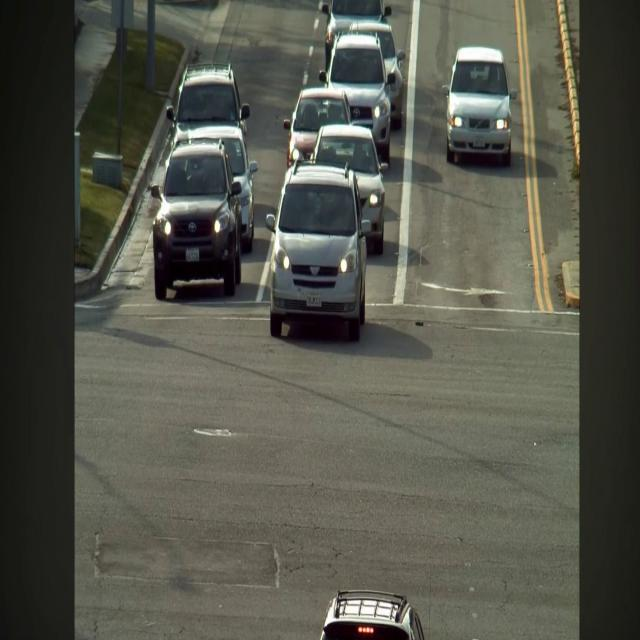car: (266, 160, 370, 341), (151, 139, 241, 300), (177, 125, 258, 253), (319, 33, 395, 163), (312, 125, 388, 255), (443, 47, 517, 166), (166, 63, 250, 143), (350, 21, 405, 129), (283, 87, 350, 167), (320, 591, 424, 639), (321, 0, 391, 70)
